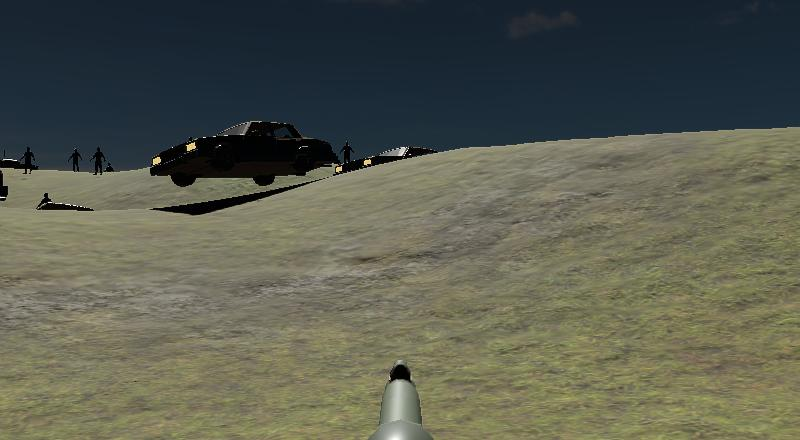car: (147, 113, 348, 191), (0, 159, 12, 210)
